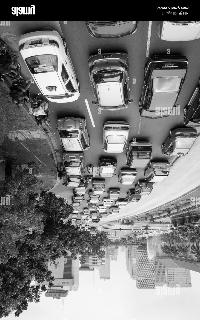mobil: (27, 29, 73, 107), (138, 54, 190, 118), (90, 44, 131, 114), (58, 114, 94, 152), (100, 120, 132, 152), (162, 130, 196, 156), (126, 138, 154, 168), (142, 160, 174, 182), (96, 157, 122, 179), (64, 152, 86, 176), (118, 168, 138, 184), (63, 172, 83, 188), (92, 178, 106, 194), (107, 187, 121, 201), (74, 182, 88, 195)
motor: (25, 98, 53, 125), (10, 76, 30, 106), (56, 163, 66, 180), (82, 176, 90, 190)
